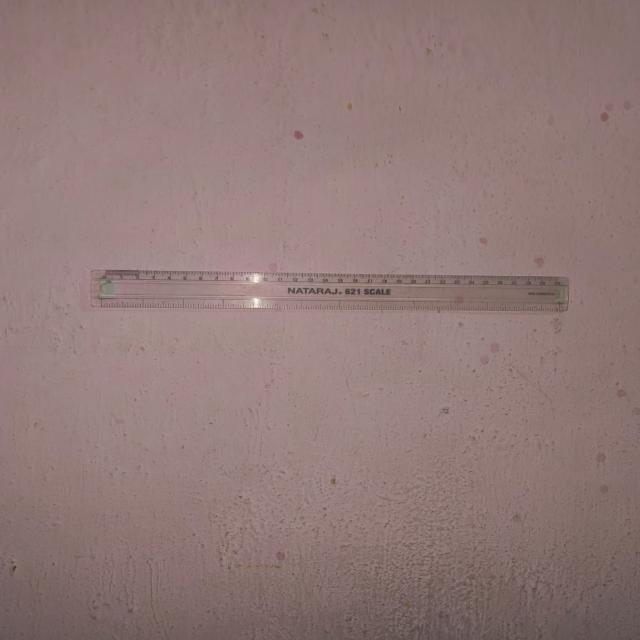scale: (94, 272, 567, 314)
